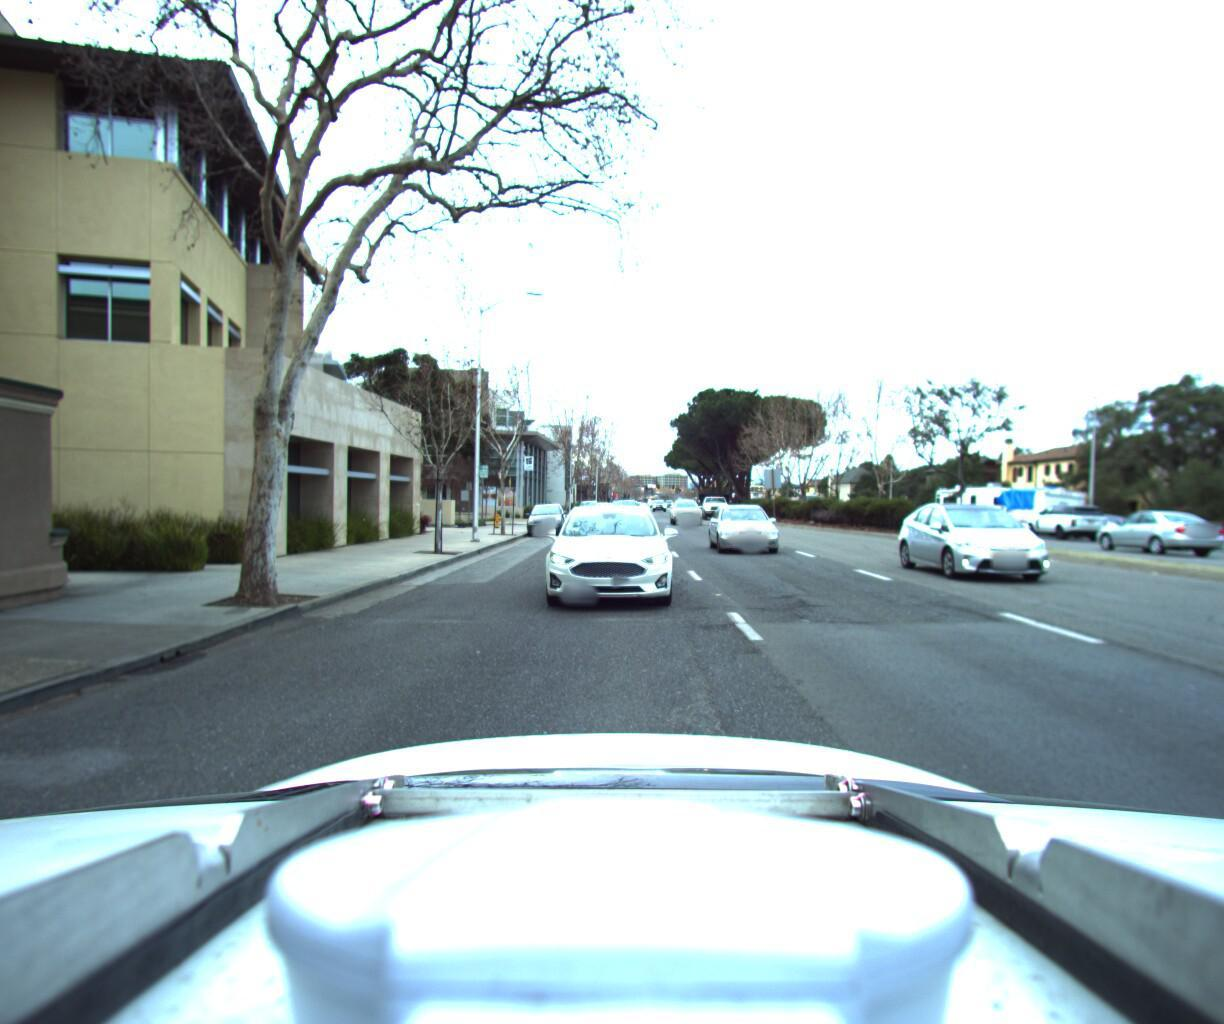car: (910, 494, 1118, 590), (534, 491, 678, 617), (1064, 500, 1198, 550), (703, 496, 790, 554), (1012, 495, 1100, 534), (1113, 505, 1208, 541), (524, 493, 570, 527), (691, 478, 735, 513), (667, 491, 703, 520), (1210, 510, 1224, 555), (575, 492, 601, 514)
other_vehicle: (989, 477, 1090, 535), (927, 473, 1022, 528)
